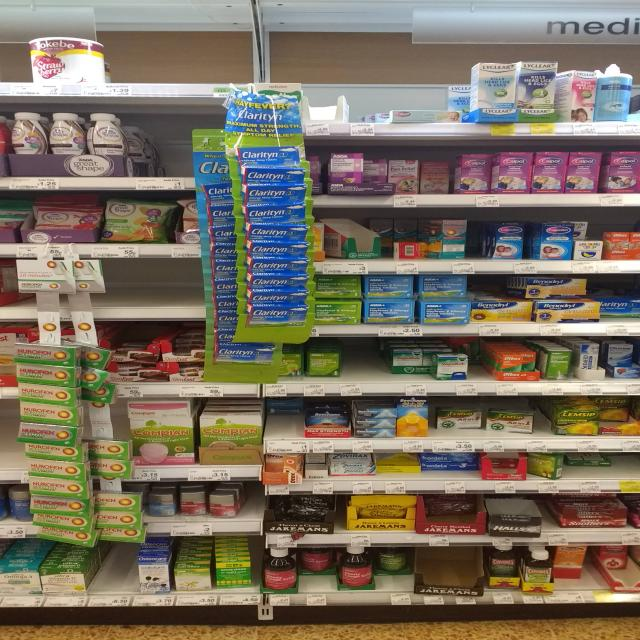empty: (101, 21, 243, 90), (89, 256, 211, 310), (122, 114, 196, 180), (414, 545, 492, 599), (295, 60, 352, 130), (98, 544, 144, 597), (343, 343, 400, 385), (560, 453, 638, 480), (231, 482, 257, 525)
